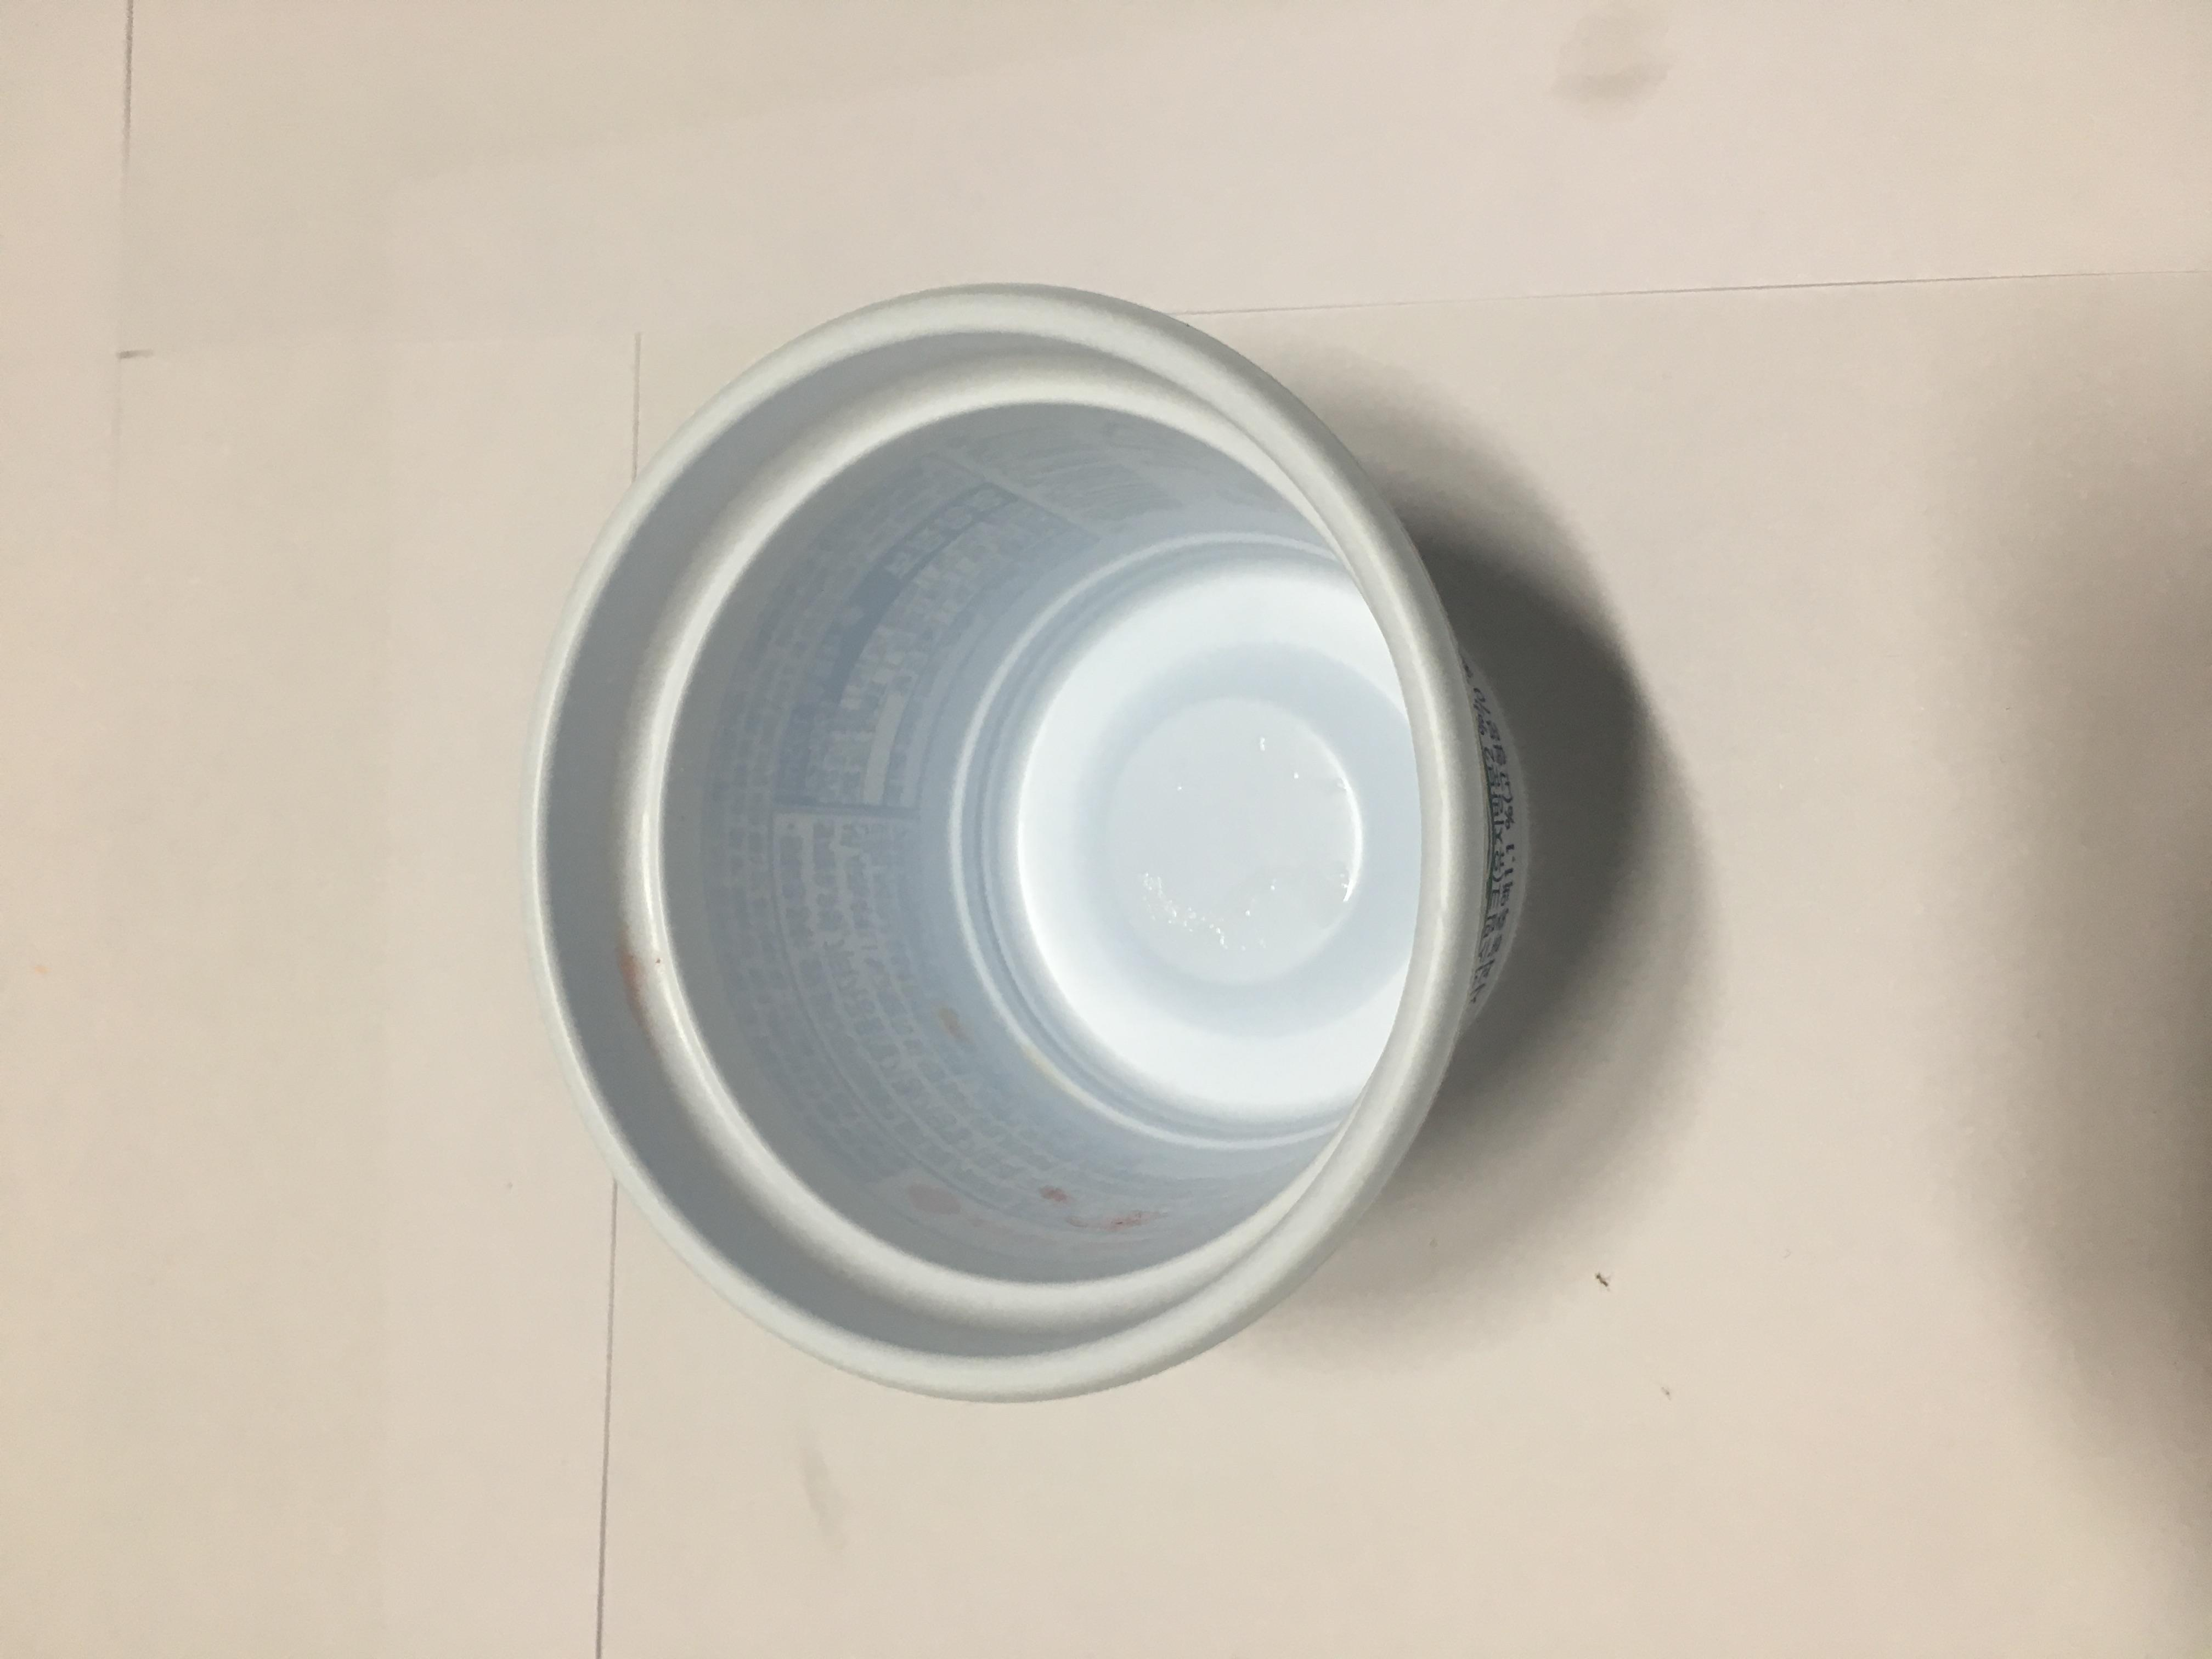bottle: (195, 326, 1916, 1234)
